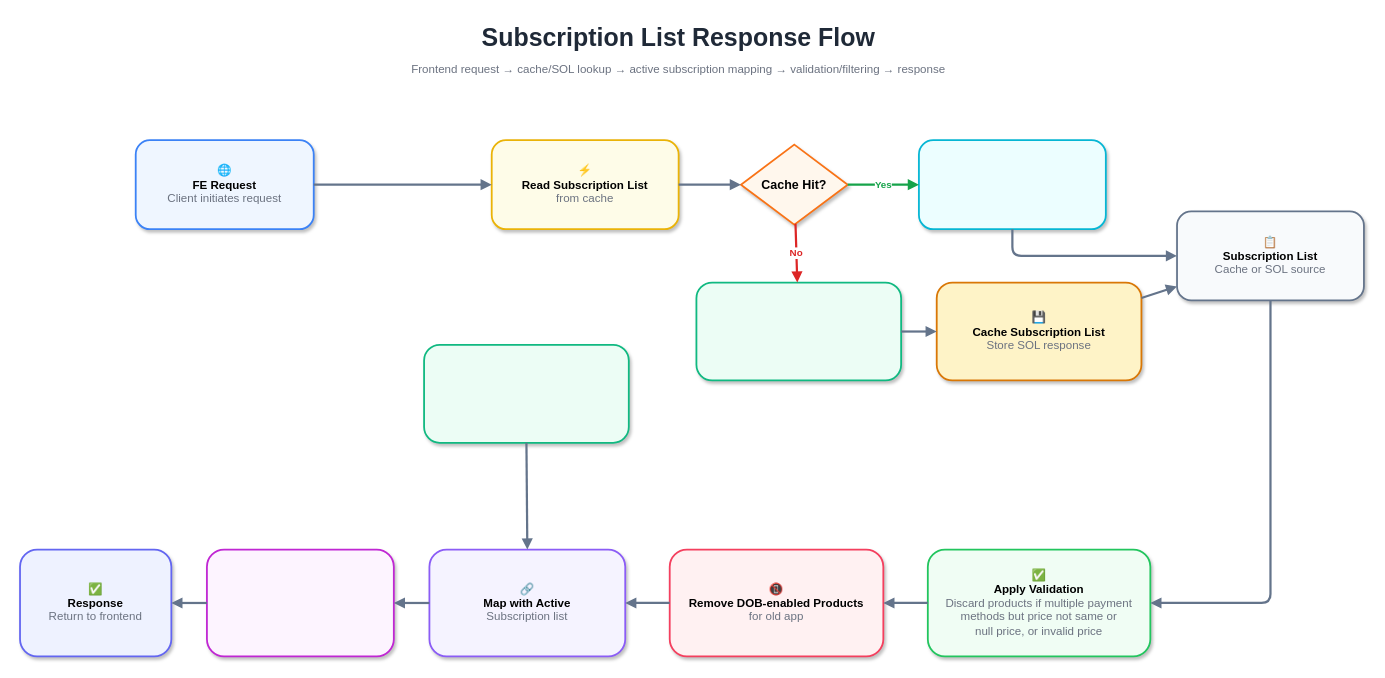
The diagram is 1385 pixels wide and 678 high, and some of its shapes have lost their labels. The centre of each missing label's shape, as x and y in pixels:
📋 Subscription List from cache: the point at 1013,185
📦 Transform Data for response: the point at 301,604
🔌 Call SOL Get active subscription list API: the point at 527,394
🔌 Fallback Call SOL Get subscription list API: the point at 799,332
